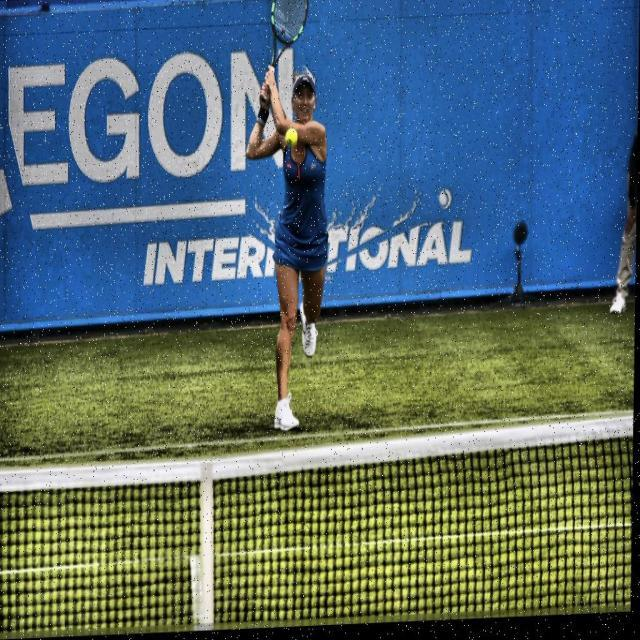tennis-ball: (284, 130, 298, 154)
